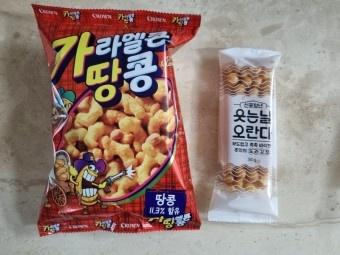snack: (31, 3, 202, 237)
